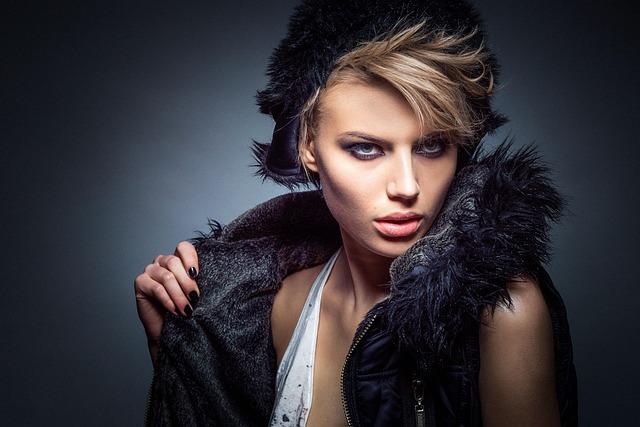Non_Gorille: (132, 6, 579, 423)
